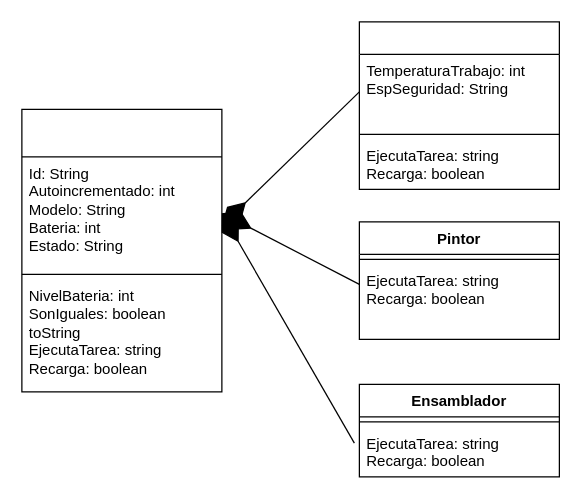
Image size: 581x503. Some labels were removed from this diagram. The shapes that lost their labels are listed below. From the top down, each one's box as (x1, y1, x2, y2) in pixels, then its label:
(358, 21, 559, 189): Soldador
(21, 108, 222, 392): <<RobotBase>>
